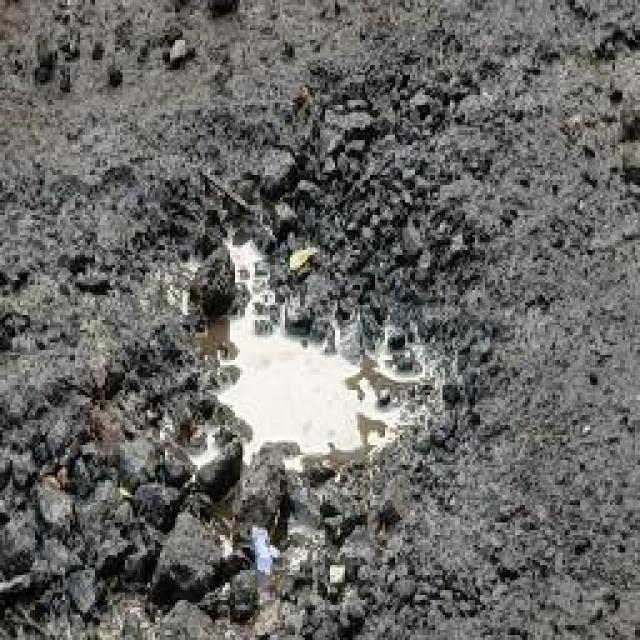puddle: (191, 294, 399, 476)
